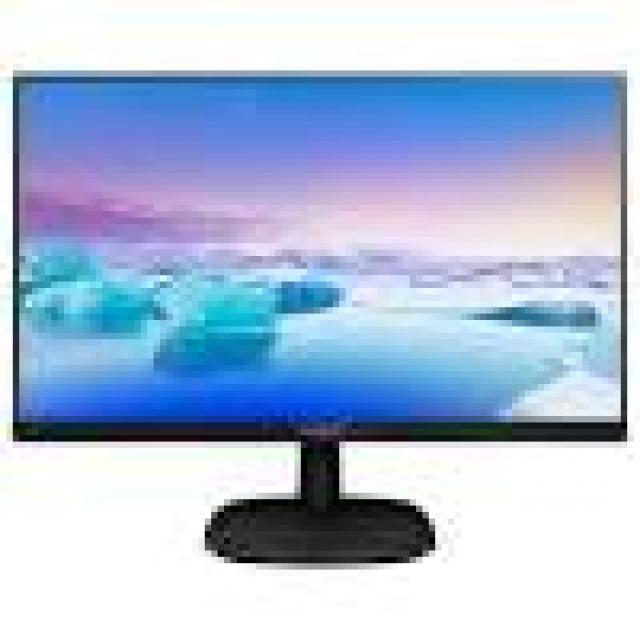monitor: (1, 61, 640, 582)
